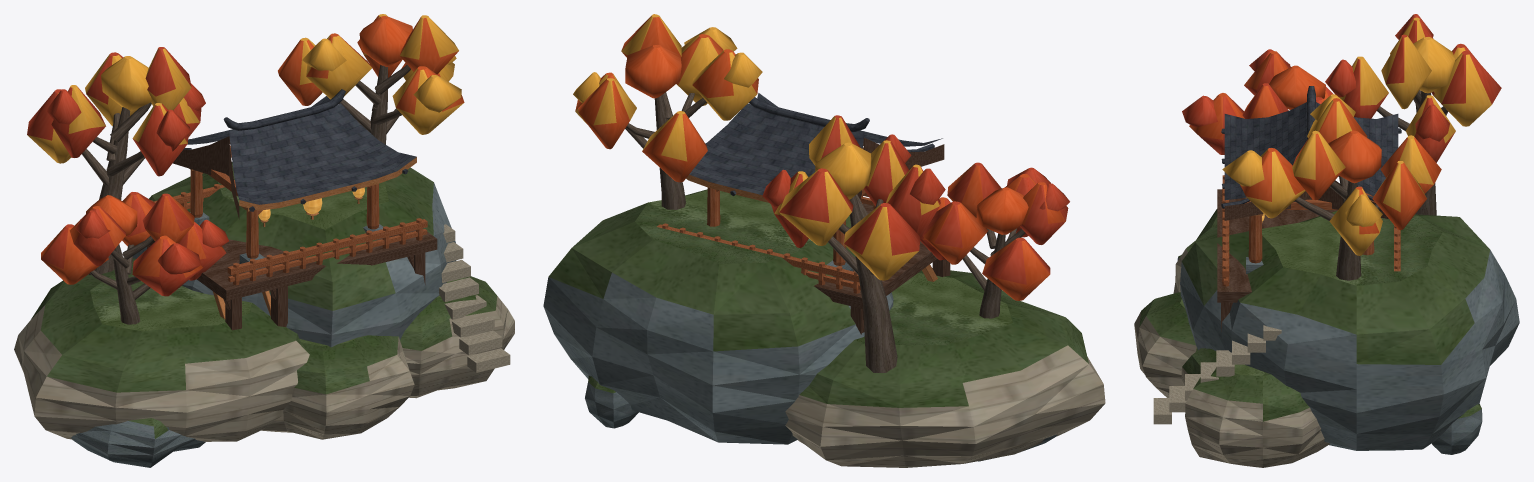
The model's file is kyoto_maple_shrine_isle_mid.glb.
3 views of the same model, side by side, from view 1: azimuth 30°, elevation 25°; view 2: azimuth 150°, elevation 25°; view 3: azimuth 270°, elevation 25° (orthographic). The views are drawn at different scales.
Parts seen in each view (by area): view 1: kyoto_maple_shrine_isle_mid; view 2: kyoto_maple_shrine_isle_mid; view 3: kyoto_maple_shrine_isle_mid.
Boxes of the visible parts, x1,y1,x2,y2 form: kyoto_maple_shrine_isle_mid: [14, 14, 514, 467]; kyoto_maple_shrine_isle_mid: [543, 14, 1105, 467]; kyoto_maple_shrine_isle_mid: [1134, 14, 1519, 467].
Size of the model in its own units: 18 by 12.5 by 13.
2 materials, 2 textured.
